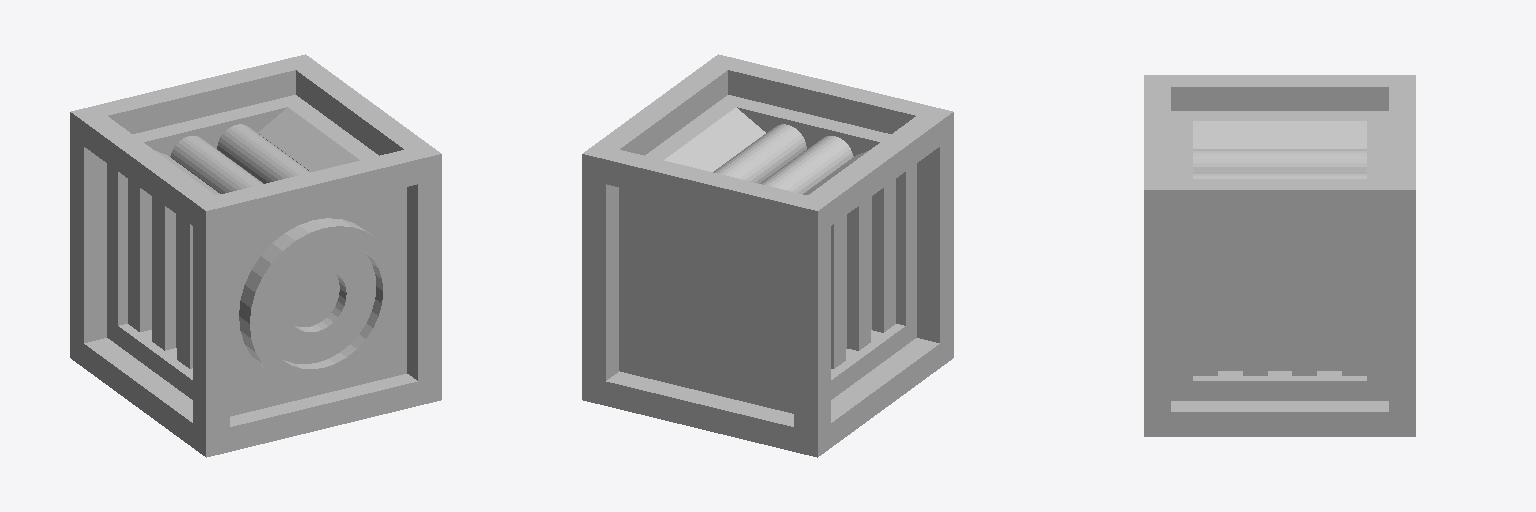
Rendered from Laser.obj.
3 renders of one model, left to right at view 1: azimuth 30°, elevation 25°; view 2: azimuth 150°, elevation 25°; view 3: azimuth 270°, elevation 25°, orthographic.
Visible parts, largest first — view 1: Cube; view 2: Cube; view 3: Cube.
Boxes of the visible parts, x1=… form: Cube: x1=70, y1=54, x2=441, y2=457; Cube: x1=582, y1=54, x2=953, y2=457; Cube: x1=1144, y1=75, x2=1415, y2=436.
Size of the model in its own units: 1 by 1 by 1.